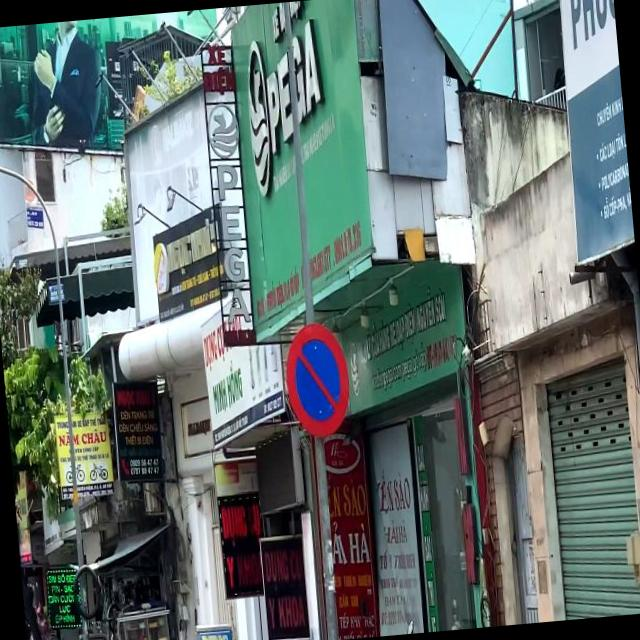P-131a: (280, 320, 352, 439)
